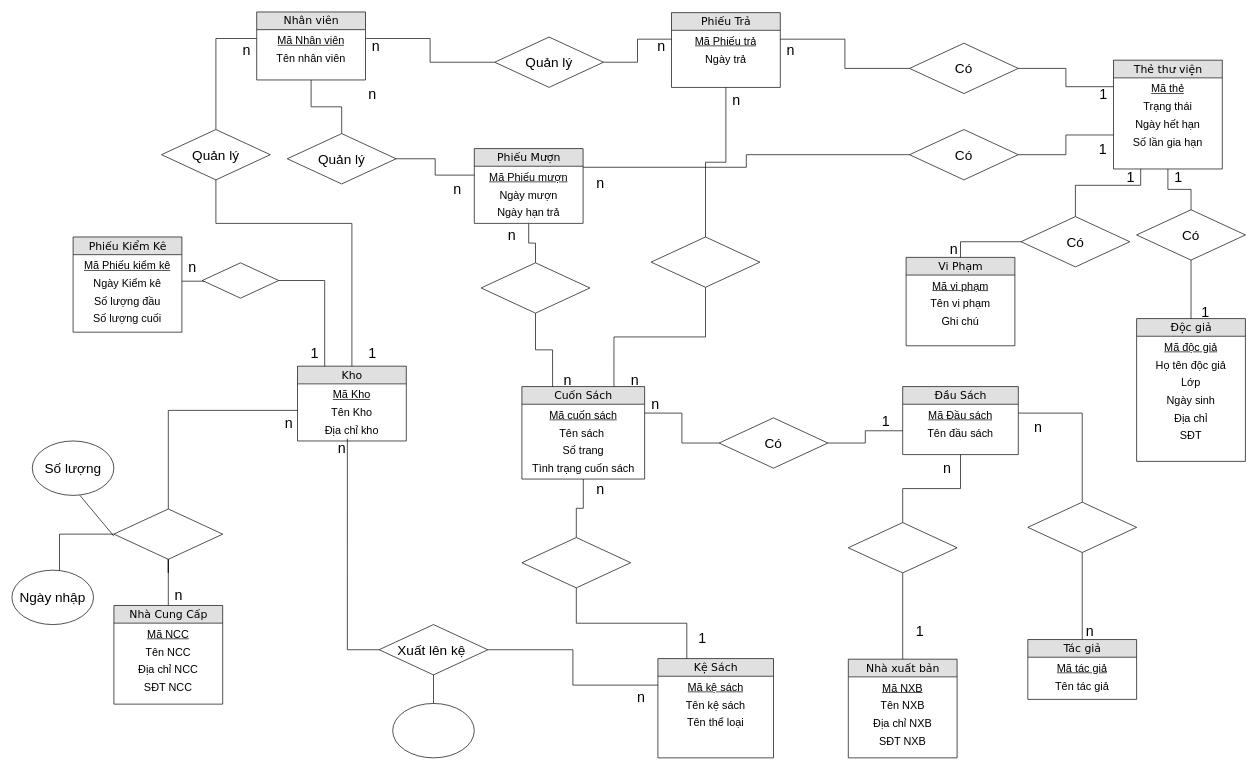
This 1257x770 diagram has some shape labels left out. The shapes that lost their labels are listed below. From the top down, each one's centre as x and y in pixels, then its label:
At (x=240, y=280): "Kiểm tra".
At (x=705, y=261): "Trả".
At (x=535, y=287): "Mượn".
At (x=168, y=533): "Cung cấp".
At (x=902, y=547): "Xuất bản".
At (x=1082, y=527): "Viết".
At (x=576, y=562): "Thuộc".
At (x=433, y=730): "Ngày xuất".
